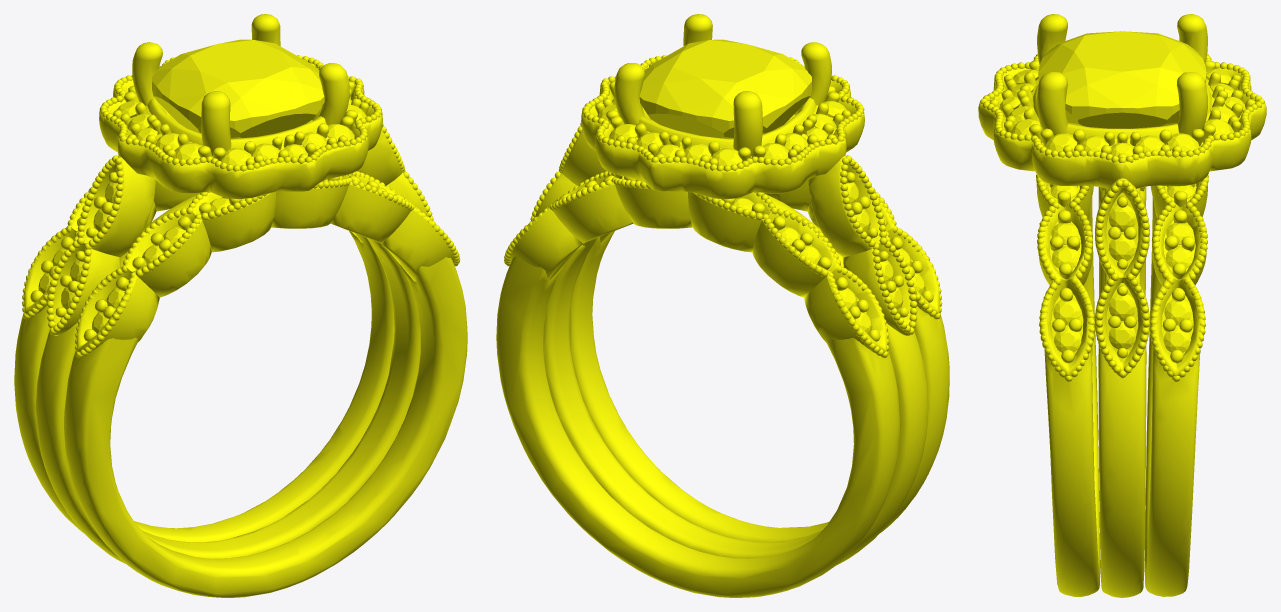
Rendered from ring2-draco.glb.
The picture shows the model from 3 angles, left to right: view 1: azimuth 30°, elevation 25°; view 2: azimuth 150°, elevation 25°; view 3: azimuth 270°, elevation 25°; orthographic projection. The views are drawn at different scales.
Parts seen in each view (by area): view 1: Ring2; view 2: Ring2; view 3: Ring2.
Part boxes in pixels (box(x1,y1,x2,y2)): Ring2: box(14, 14, 467, 597); Ring2: box(496, 14, 949, 597); Ring2: box(978, 14, 1266, 597).
Bounding box in the file's own units: 0.2229 × 0.2791 × 0.1372.
